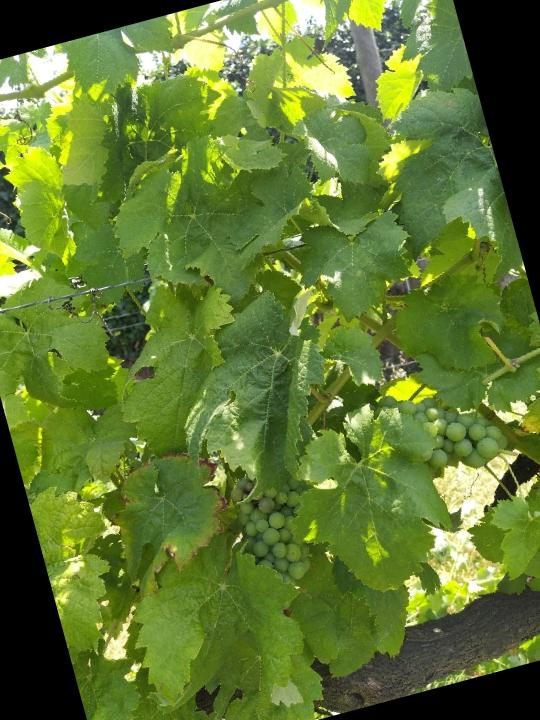grape: (365, 364, 515, 494), (223, 462, 331, 600)
